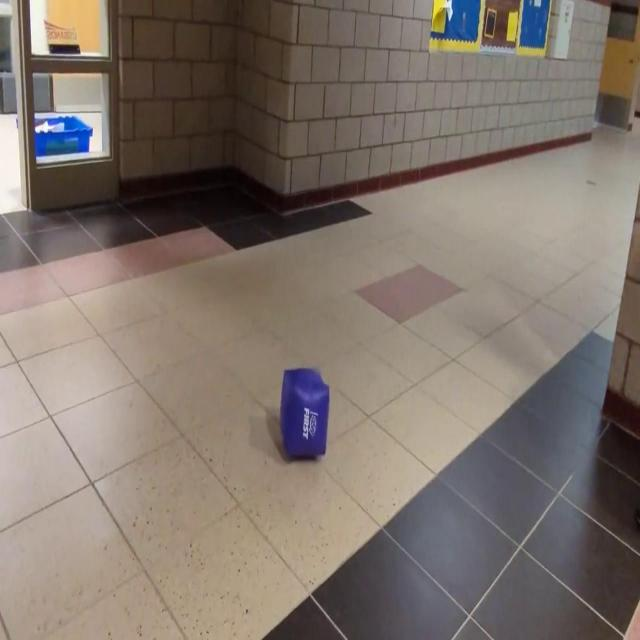frc_cube: (279, 369, 330, 459)
